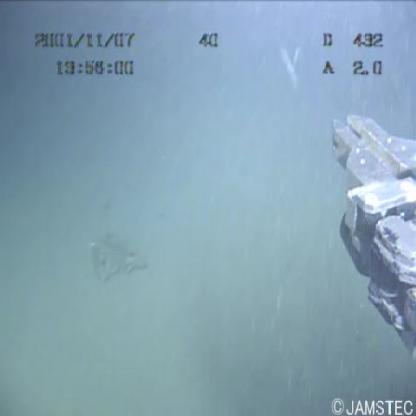Rov: (315, 96, 416, 355)
Rác: (70, 224, 161, 289)
